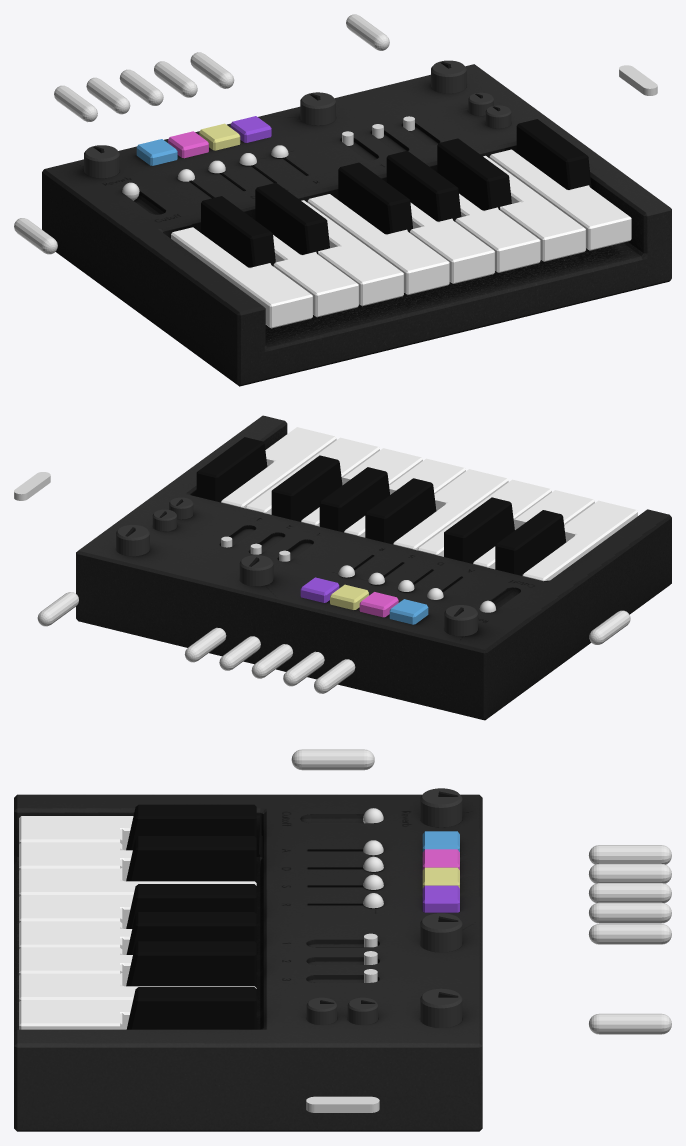
Rendered from 3D-synth-1j.gltf.
3 views of the same model, one above another, from view 1: azimuth 30°, elevation 25°; view 2: azimuth 150°, elevation 25°; view 3: azimuth 270°, elevation 25° (orthographic). The views are drawn at different scales.
Parts seen in each view (by area): view 1: cabinet, Key@0-C3, Key@12-C4, Key@5-F3, Key@11-B3, Key@4-E3, Key@3-Eb3, Key@2-D3, Key@6-Gb3, Key@1-Db3, Key@7-G3, Key@10-Bb3 (+19 smaller); view 2: cabinet, Key@0-C3, Key@5-F3, Key@12-C4, Key@3-Eb3, Key@6-Gb3, Key@1-Db3, Key@10-Bb3, Key@13-Db4, Key@8-Ab3, Key@11-B3, Key@4-E3 (+19 smaller); view 3: cabinet, Key@10-Bb3, Key@3-Eb3, Key@13-Db4, Key@1-Db3, Key@8-Ab3, Key@6-Gb3, Key@4-E3, Key@12-C4, Key@11-B3, Key@0-C3, Key@5-F3 (+20 smaller).
Part boxes in pixels (x1,y1,x2,y2): cabinet: [42, 64, 671, 386]; Key@0-C3: [171, 227, 312, 328]; Key@12-C4: [489, 149, 631, 250]; Key@5-F3: [307, 194, 449, 294]; Key@11-B3: [483, 155, 585, 261]; Key@4-E3: [301, 200, 403, 306]; Key@3-Eb3: [255, 183, 329, 254]; Key@2-D3: [273, 235, 358, 317]; Key@6-Gb3: [338, 162, 412, 234]; Key@1-Db3: [201, 196, 275, 267]; Key@7-G3: [410, 202, 494, 283]; Key@10-Bb3: [437, 138, 511, 210]; cabinet: [76, 415, 671, 720]; Key@0-C3: [522, 500, 637, 581]; Key@5-F3: [393, 469, 508, 550]; Key@12-C4: [221, 427, 336, 508]; Key@3-Eb3: [444, 497, 514, 563]; Key@6-Gb3: [365, 478, 436, 544]; Key@1-Db3: [495, 510, 566, 575]; Key@10-Bb3: [271, 455, 342, 521]; Key@13-Db4: [196, 437, 267, 502]; Key@8-Ab3: [319, 467, 389, 532]; Key@11-B3: [245, 437, 379, 514]; Key@4-E3: [417, 479, 551, 556]; cabinet: [14, 794, 482, 1131]; Key@10-Bb3: [126, 941, 256, 987]; Key@3-Eb3: [126, 836, 256, 882]; Key@13-Db4: [126, 987, 256, 1029]; Key@1-Db3: [126, 804, 256, 850]; Key@8-Ab3: [126, 912, 256, 954]; Key@6-Gb3: [126, 884, 256, 928]; Key@4-E3: [19, 868, 256, 896]; Key@12-C4: [19, 1000, 132, 1029]; Key@11-B3: [19, 973, 256, 1001]; Key@0-C3: [19, 816, 133, 850]; Key@5-F3: [19, 895, 133, 928].
Size of what is drawn, in the model's own units: 2.86 by 0.427 by 2.21.
Materials: 11 (1 with a texture image).
